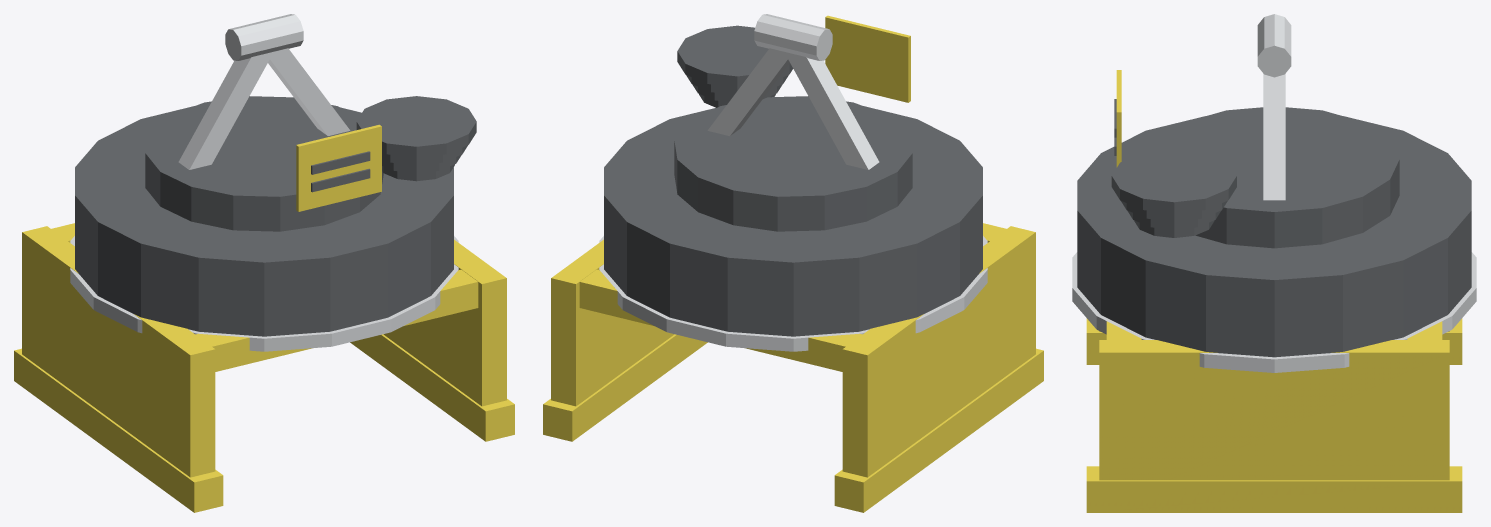
The model's file is demolition-and-site-clearance-demolition-and-site-clea-789c1354__35697.glb.
3 views of the same model, side by side, from view 1: azimuth 30°, elevation 25°; view 2: azimuth 150°, elevation 25°; view 3: azimuth 270°, elevation 25° (orthographic). The views are drawn at different scales.
Parts seen in each view (by area): view 1: demolition-and-site-clearance-demolition-magnet-attachment; view 2: demolition-and-site-clearance-demolition-magnet-attachment; view 3: demolition-and-site-clearance-demolition-magnet-attachment.
Boxes of the visible parts, <box> form: demolition-and-site-clearance-demolition-magnet-attachment: <box>14,14,514,512</box>; demolition-and-site-clearance-demolition-magnet-attachment: <box>543,14,1043,512</box>; demolition-and-site-clearance-demolition-magnet-attachment: <box>1072,14,1476,512</box>.
Size of the model in its own units: 1.64 by 1.77 by 1.62.
